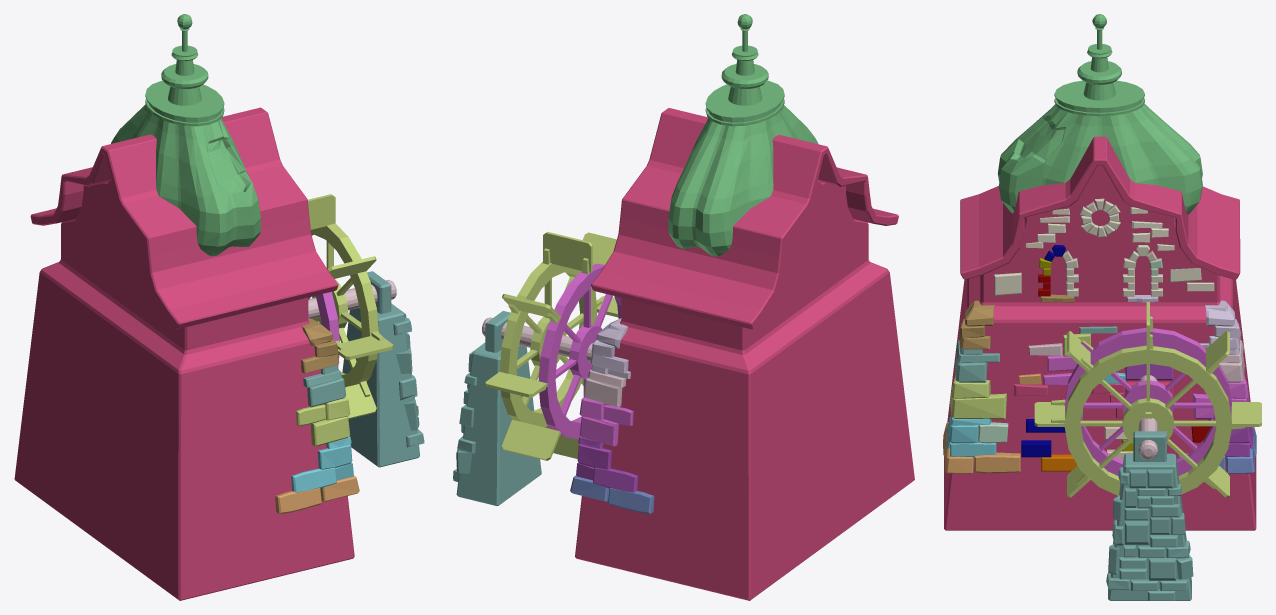
The model's file is full_6.glb.
3 renders of one model, left to right at view 1: azimuth 30°, elevation 25°; view 2: azimuth 150°, elevation 25°; view 3: azimuth 270°, elevation 25°, orthographic. The views are drawn at different scales.
Parts seen in each view (by area): view 1: world; view 2: world; view 3: world.
Boxes of the visible parts, x1=… form: world: x1=14, y1=14, x2=424, y2=600; world: x1=453, y1=14, x2=914, y2=600; world: x1=943, y1=14, x2=1261, y2=600.
Bounding box in the file's own units: 0.5106 × 0.7351 × 0.446.
